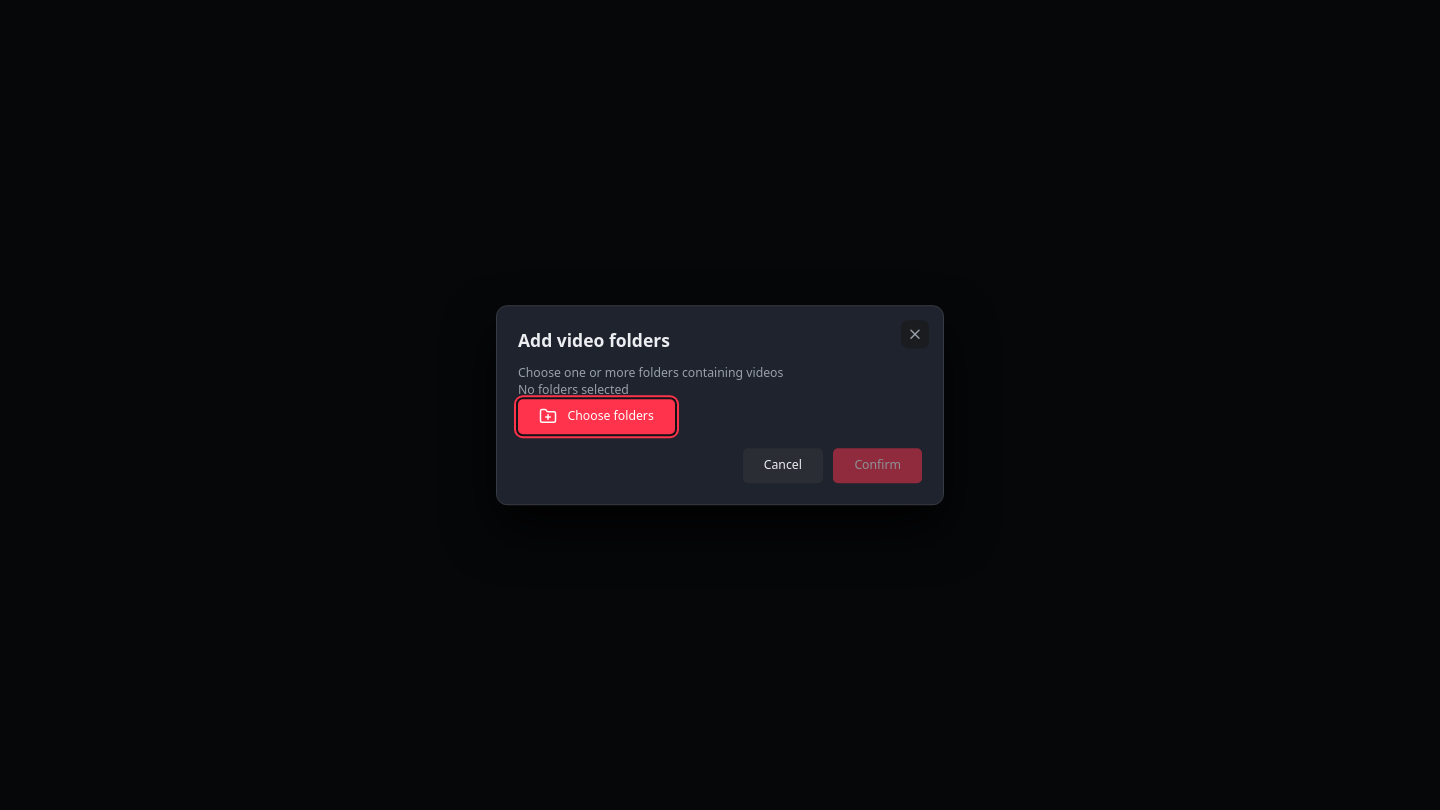
lists a folder chosen twice only once
The image size is (1440, 810).
What coordinates should you click on to do the following:
click the button "Choose folders"
I would click on:
 (596, 416)
Its box is [518,399,675,434].
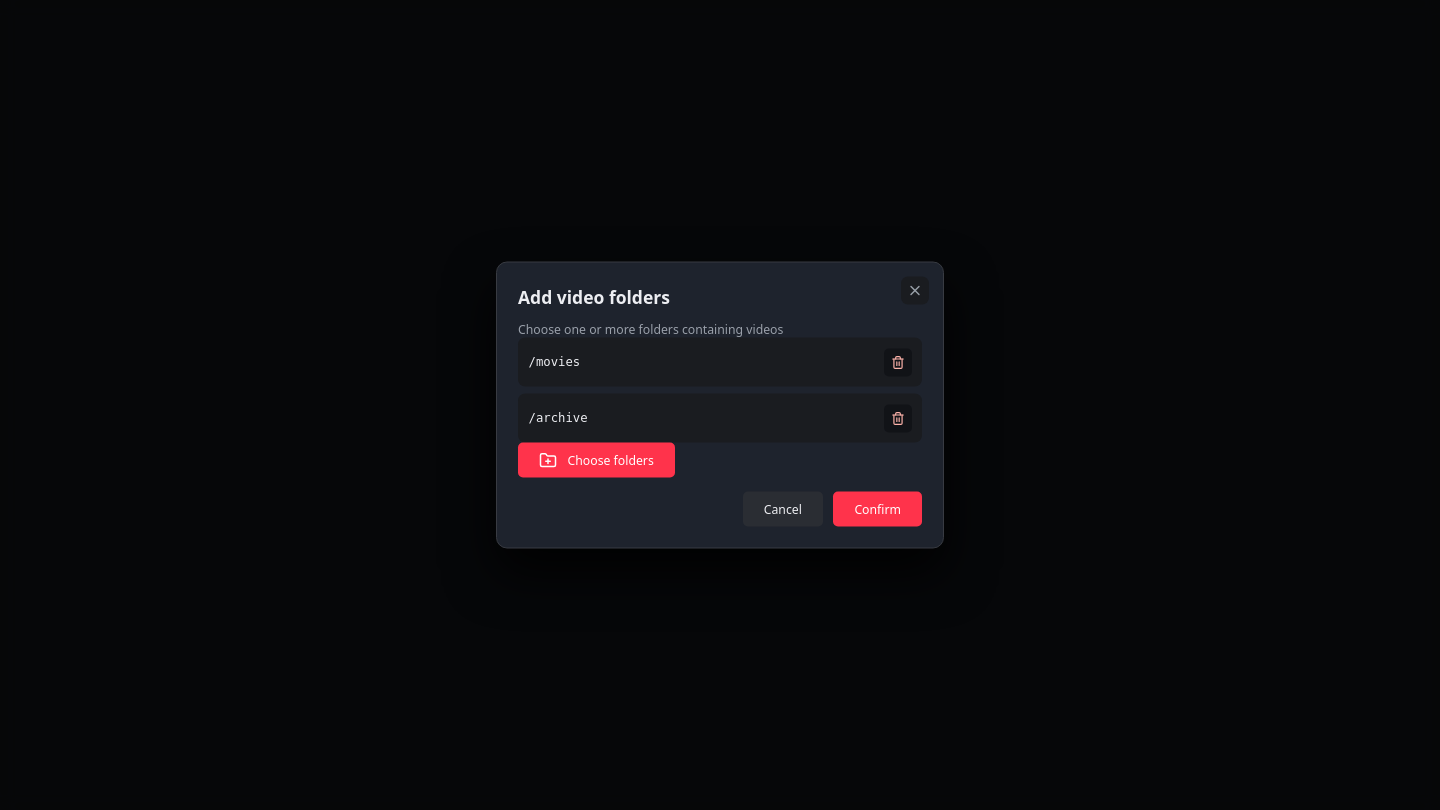
Expected: the text "/archive" is shown, [528,410,588,424]
What coordinates should you click on to do the following:
click the button "Choose folders"
I would click on:
 (596, 460)
Its box is [518,442,675,478].
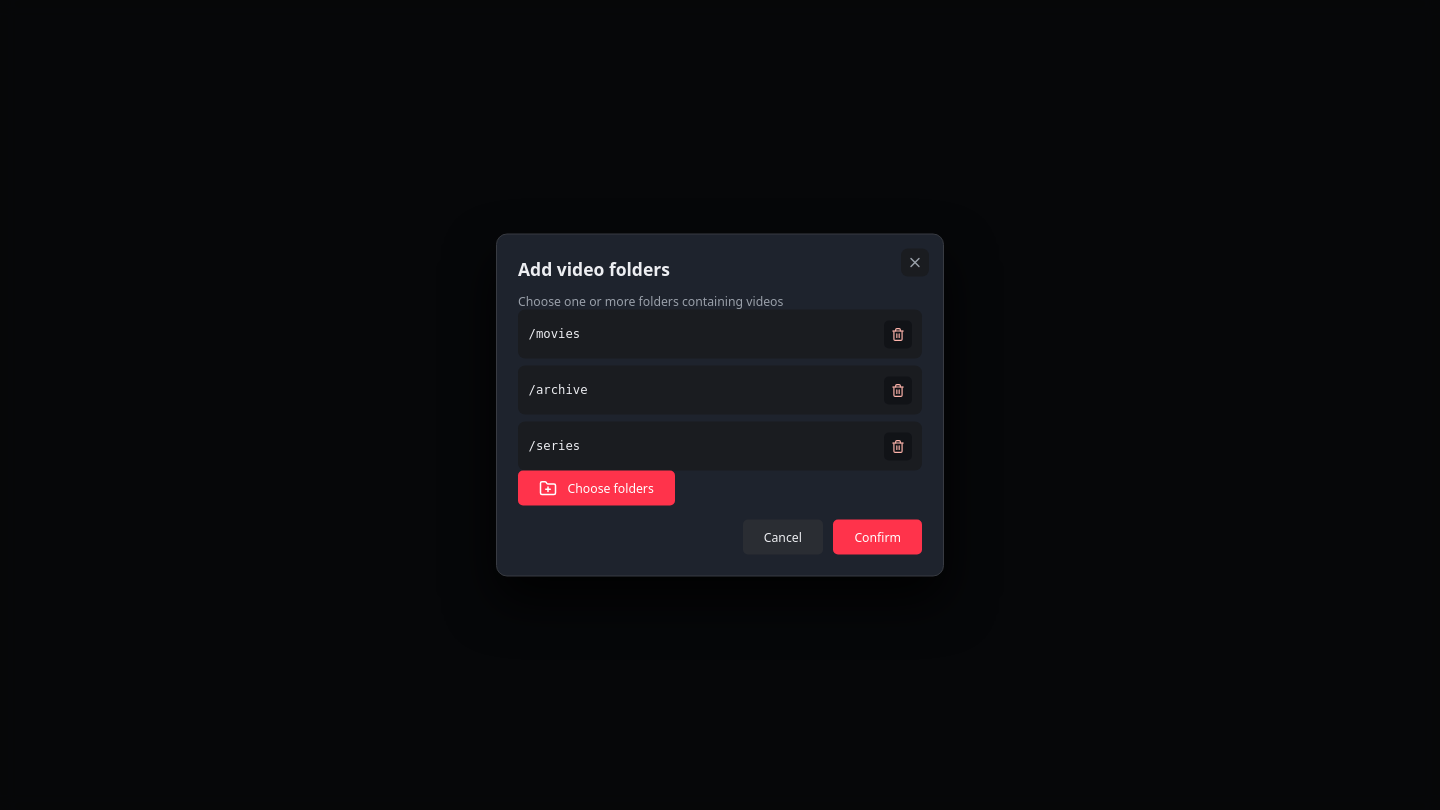
Expected: the text "/movies" is shown, [528,326,580,340]
Expected: the text "/series" is shown, [528,438,580,452]
Expected: the text "/archive" is shown once, [528,382,588,396]
